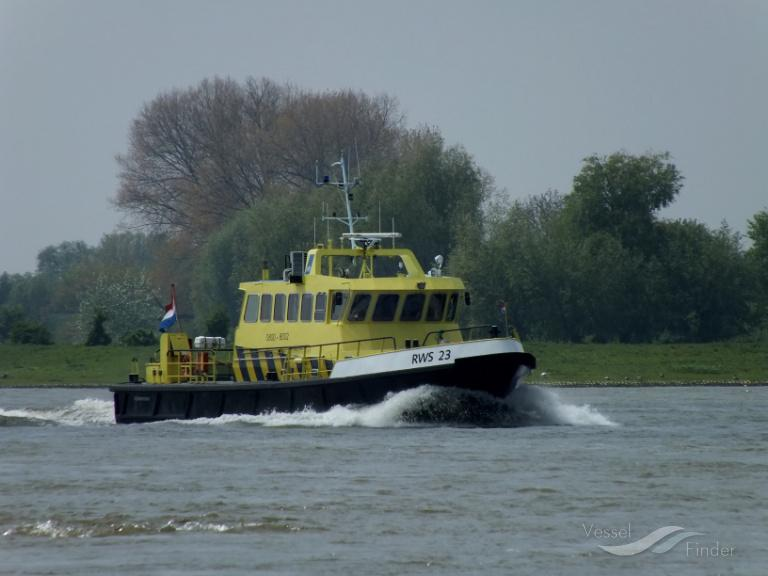OCR: (400, 347, 453, 367)
